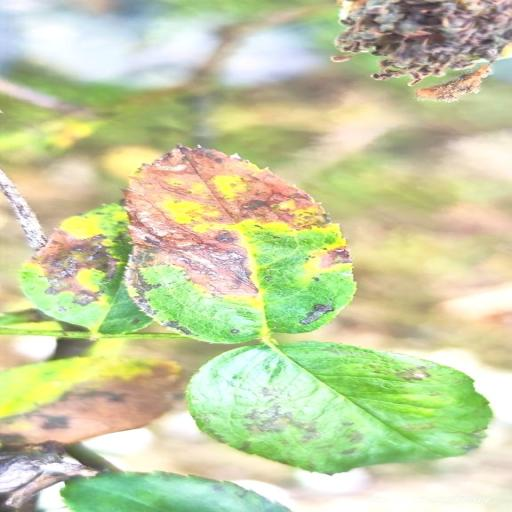thrip: (125, 146, 355, 342), (188, 341, 491, 474), (21, 204, 151, 334), (0, 356, 184, 444)
